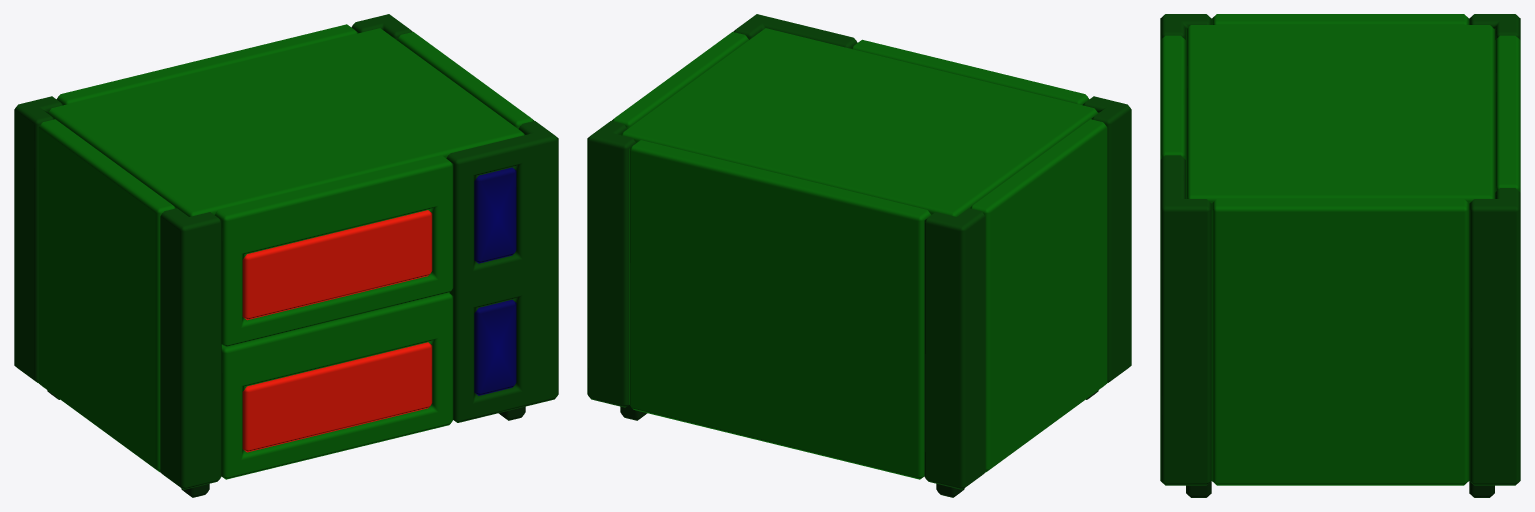
3 renders of one model, left to right at view 1: azimuth 30°, elevation 25°; view 2: azimuth 150°, elevation 25°; view 3: azimuth 270°, elevation 25°, orthographic. The views are drawn at different scales.
Visible parts, largest first — view 1: Plane.451; view 2: Plane.451; view 3: Plane.451.
Part boxes in pixels (x1=…): Plane.451: x1=14, y1=14, x2=558, y2=497; Plane.451: x1=587, y1=14, x2=1131, y2=497; Plane.451: x1=1160, y1=14, x2=1520, y2=497.
Size of the model in its own units: 0.9 by 0.65 by 0.7.
